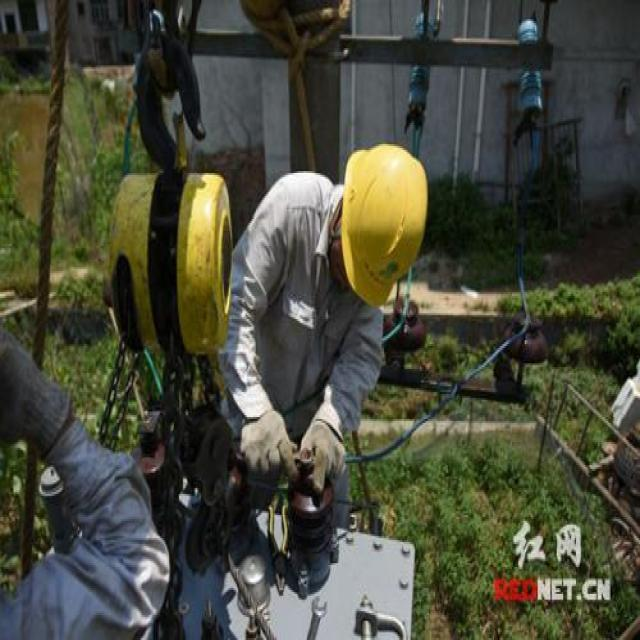helmet: (329, 134, 433, 308)
